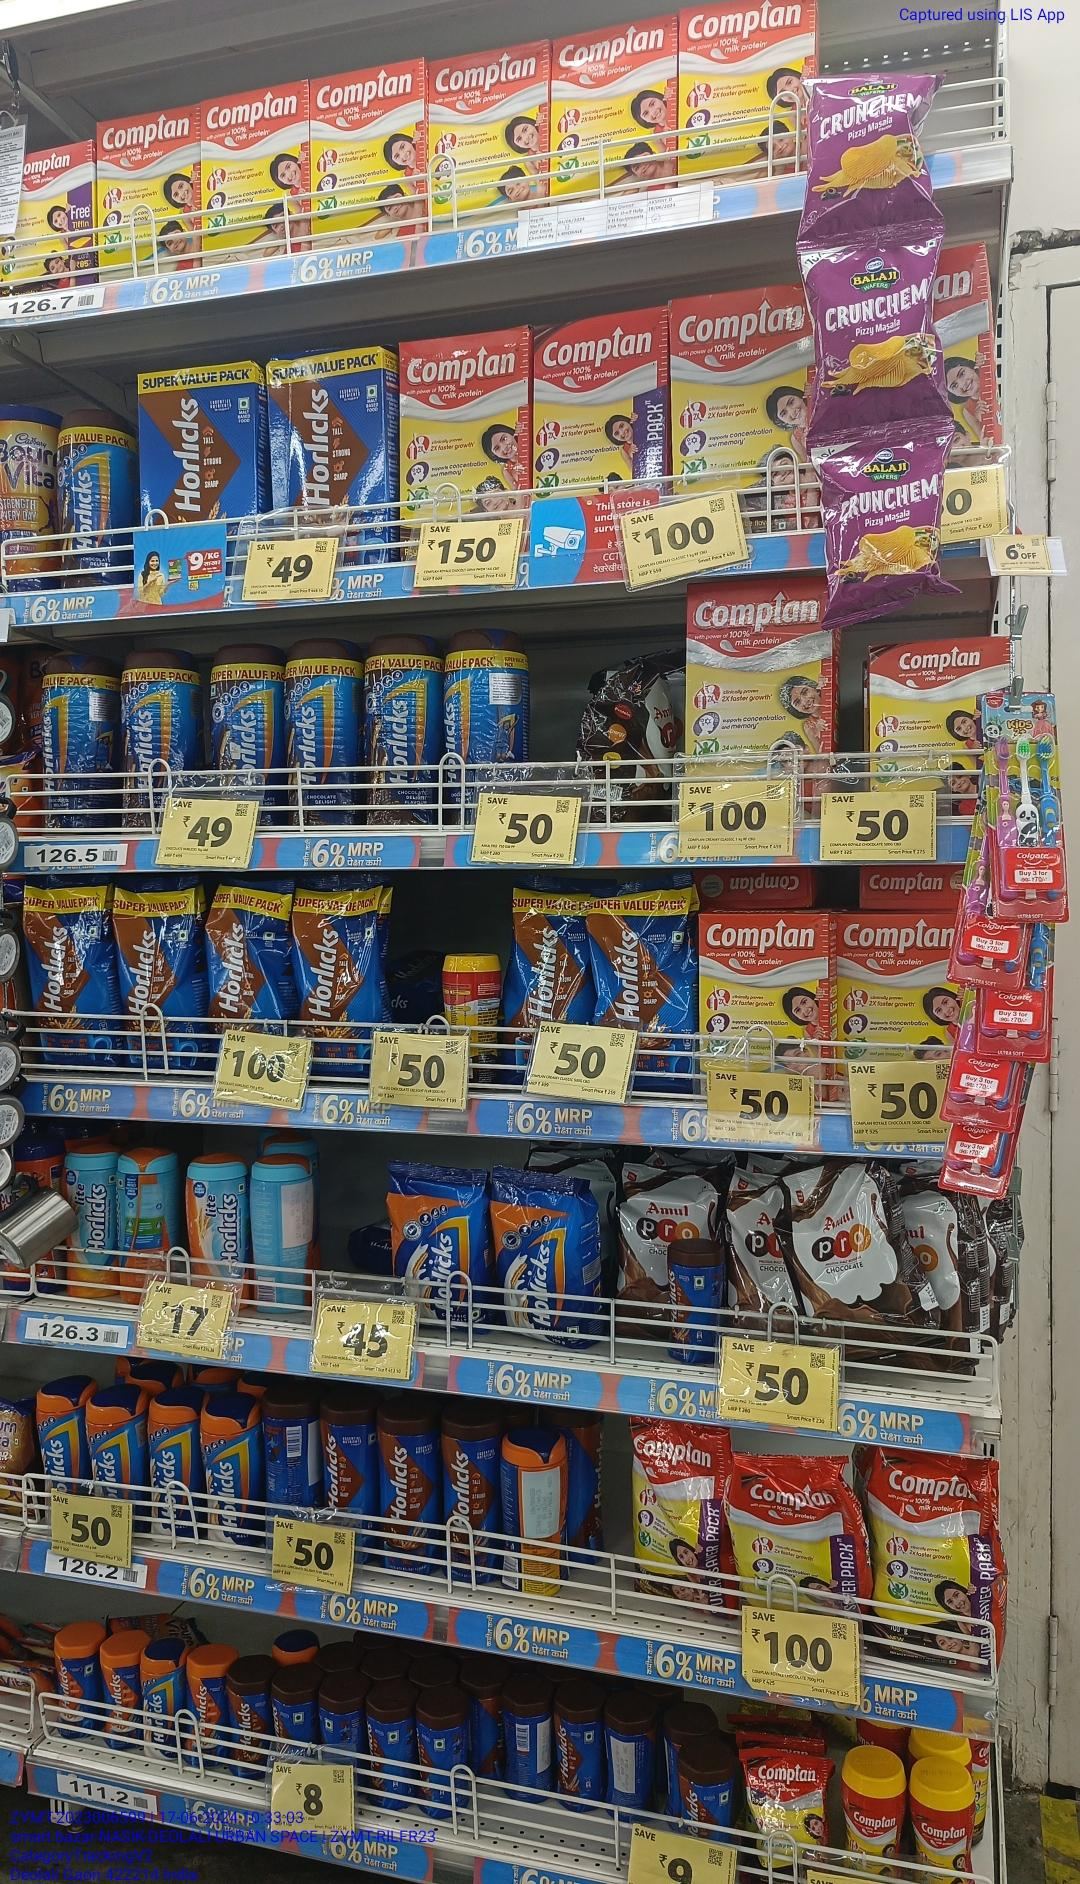COMPLAN_CHOCOLATE_200_GMS_JAR: (911, 1756, 975, 1884), (842, 1746, 904, 1878)
COMPLAN_RC_POUCH_700_GMS_12: (877, 1448, 997, 1660), (736, 1453, 870, 1607), (634, 1421, 727, 1606)
HORLICKS_LITE_REGULAR_MALT_500_GM_JAR: (186, 1154, 246, 1287), (63, 1143, 115, 1295)
HORLICK_CHOCOLATE_500_G_JAR: (442, 1414, 503, 1583), (378, 1405, 438, 1572), (322, 1394, 373, 1520)
HORLICK_CLASSIC_MALT_200_G_JAR: (141, 1632, 185, 1761), (58, 1619, 98, 1740), (188, 1645, 225, 1762), (101, 1628, 137, 1749)
HORLICK_CLASSIC_MALT_500_G_JAR: (202, 1391, 259, 1546), (147, 1388, 199, 1536), (88, 1387, 144, 1501), (36, 1378, 84, 1496)
